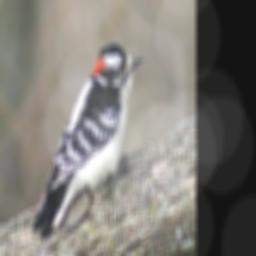Woodpecker: (29, 44, 142, 237)
